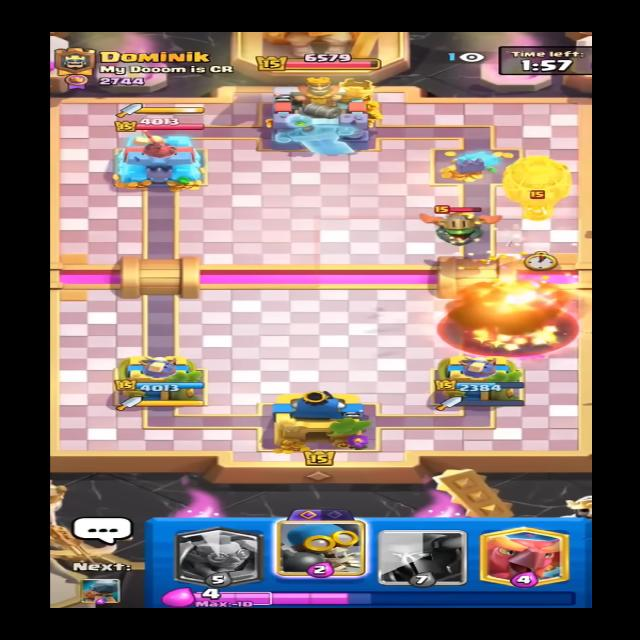Balloon: (496, 151, 577, 236)
Infernodragon: (416, 201, 498, 247)
